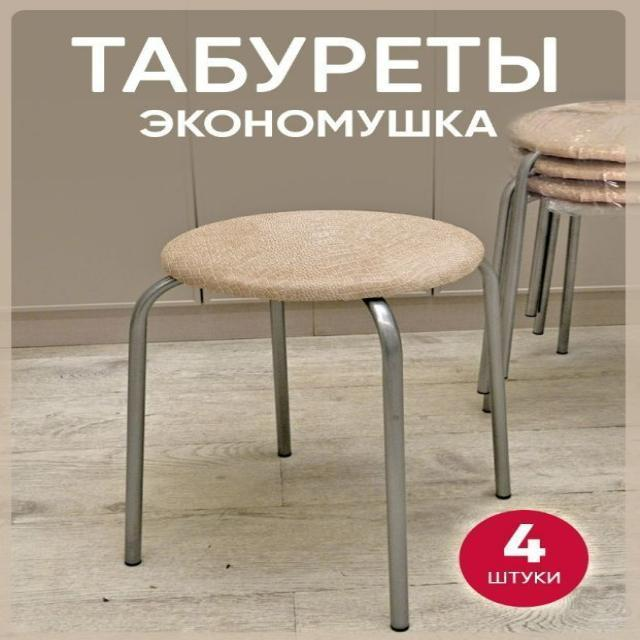chair: (119, 204, 518, 632)
